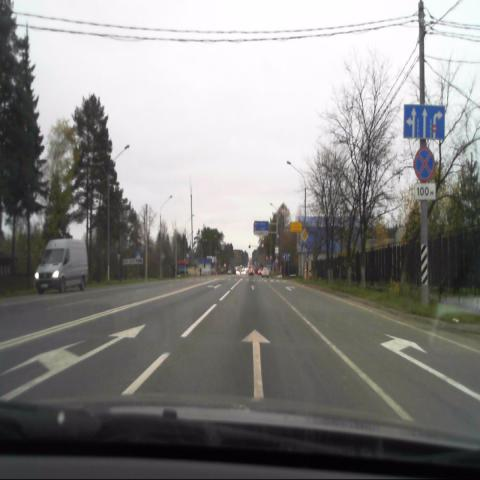8_1_1: (414, 184, 436, 200)
